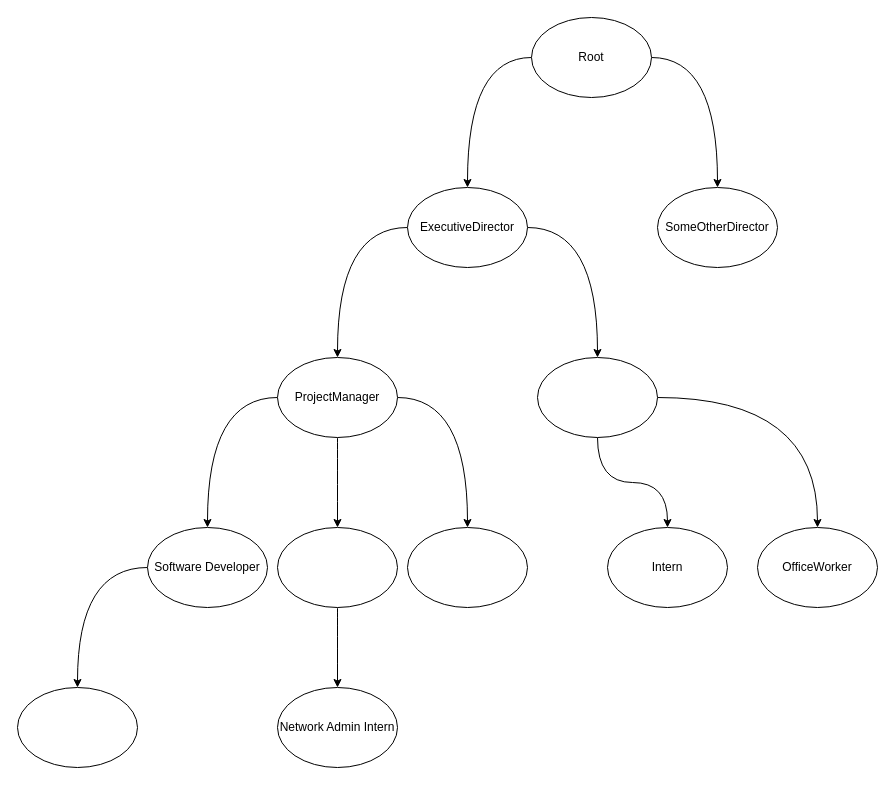
Some shapes in this 895 by 785 pixel diagram are drawn without their labels. Each missing label, with the centre of its shape:
"Dev Ops" goes at [467,567].
"HRManager" goes at [597,397].
"Network Admin" goes at [337,567].
"SoftwareDevIntern" goes at [77,727].
